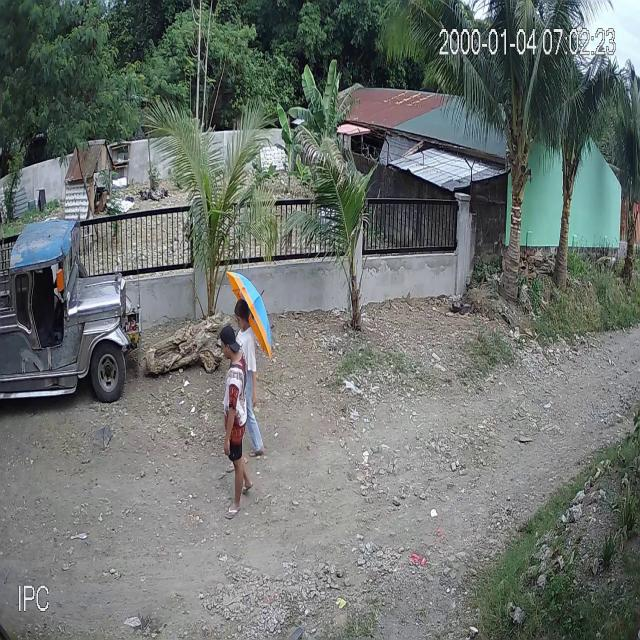walking: (223, 267, 274, 475), (217, 316, 258, 523)
